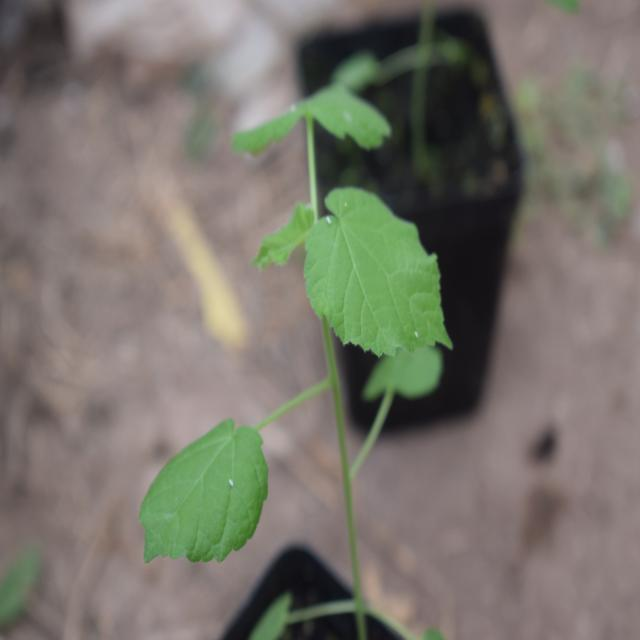abutilon theophrasti: (134, 75, 452, 608)
